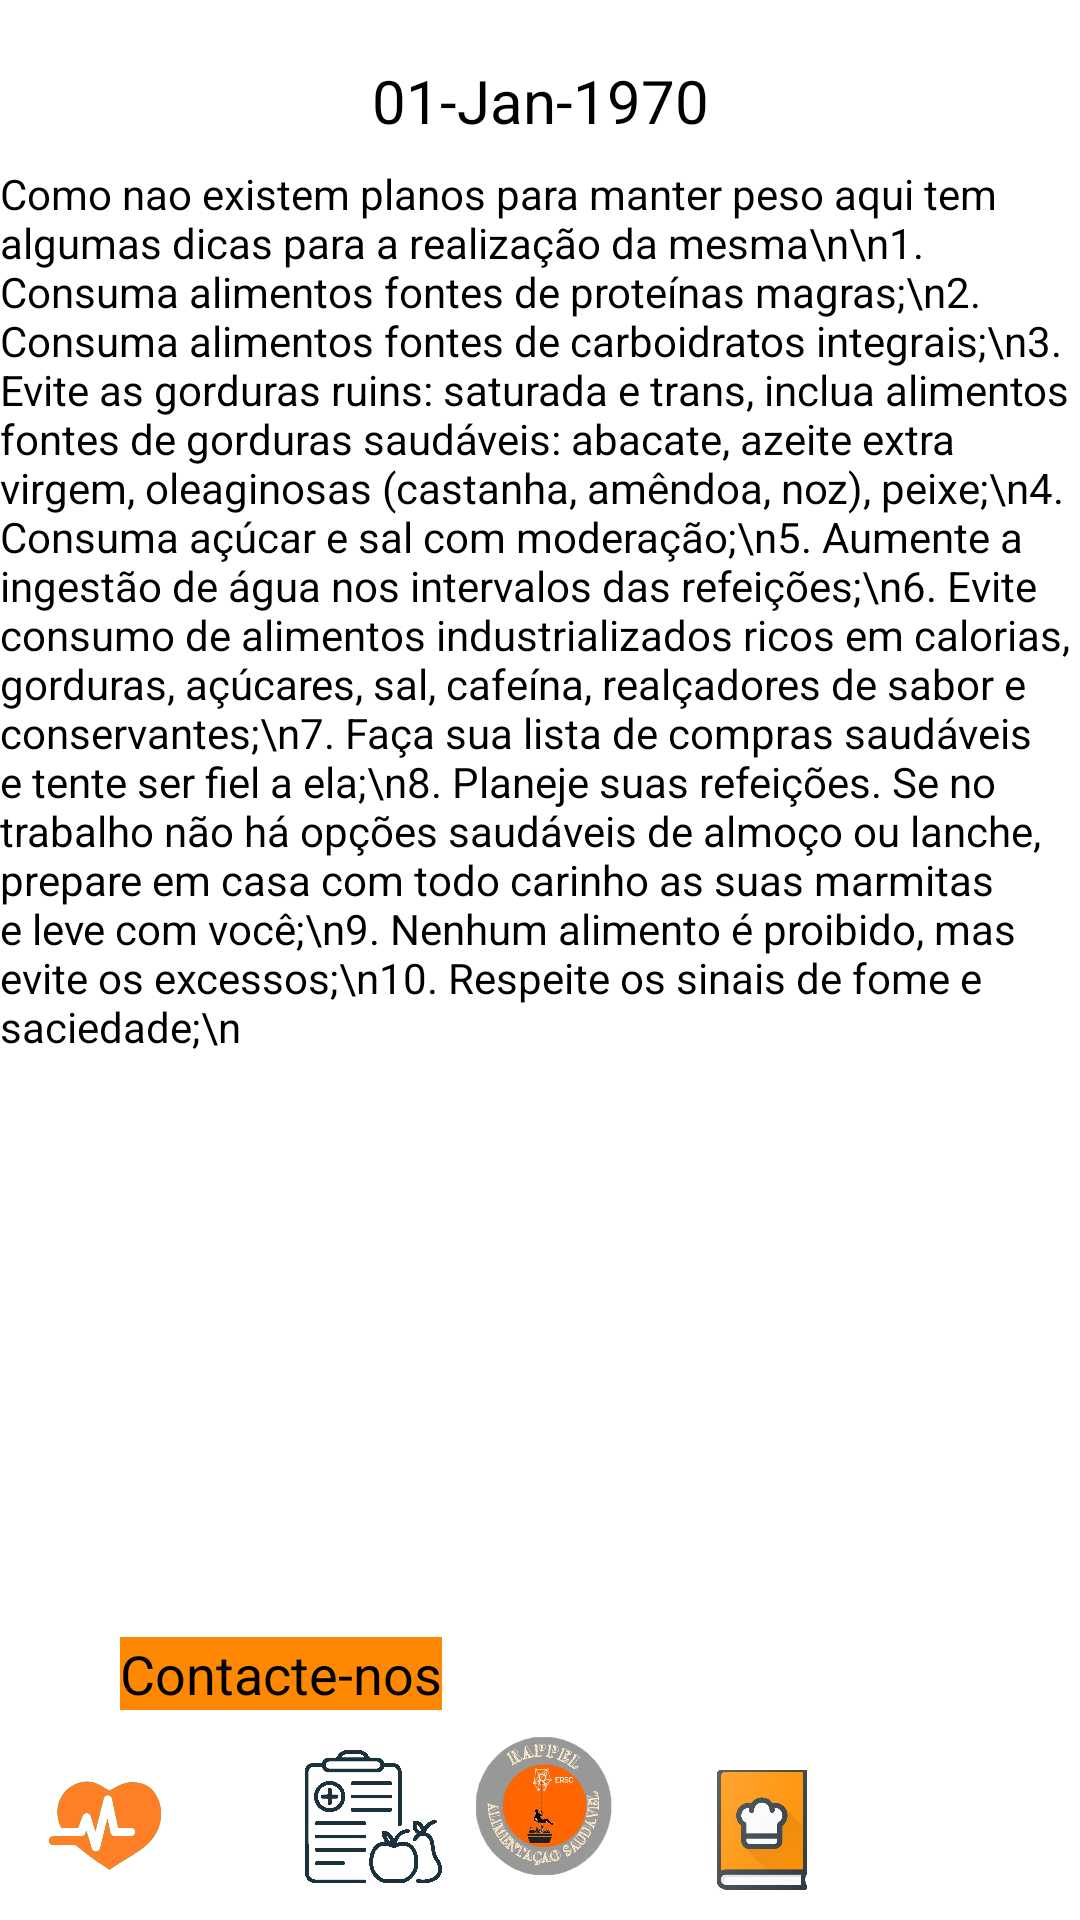

Where to tap for icons on this 1080w x 1920h app screen, as [x,y]:
plano: [373,1816]
